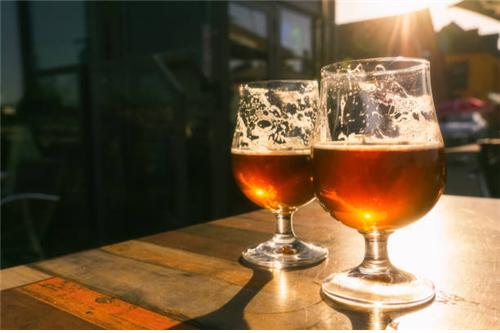alcohol: (311, 57, 444, 310), (228, 80, 332, 271)
